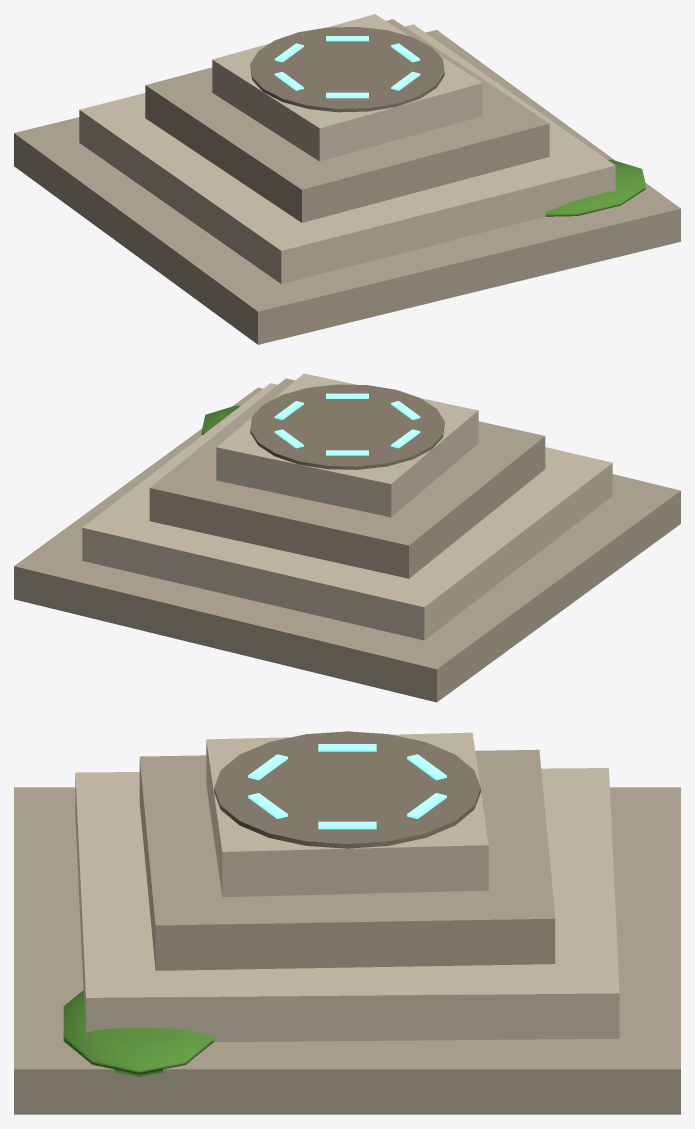
File: RuinSteps.glb
The picture shows the model from 3 angles, top to bottom: view 1: azimuth 30°, elevation 25°; view 2: azimuth 150°, elevation 25°; view 3: azimuth 270°, elevation 25°; orthographic projection. The views are drawn at different scales.
Visible parts, largest first — view 1: Body, Rune; view 2: Body, Rune; view 3: Body, Rune.
Boxes of the visible parts, bbox=[...] form: Body: bbox=[14, 14, 680, 344]; Rune: bbox=[274, 36, 420, 98]; Body: bbox=[14, 373, 680, 702]; Rune: bbox=[274, 393, 420, 455]; Body: bbox=[14, 731, 680, 1114]; Rune: bbox=[248, 744, 446, 829].
Bounding box in the file's own units: 8.13 × 2.49 × 8.
Materials: 2 (1 with a texture image).
